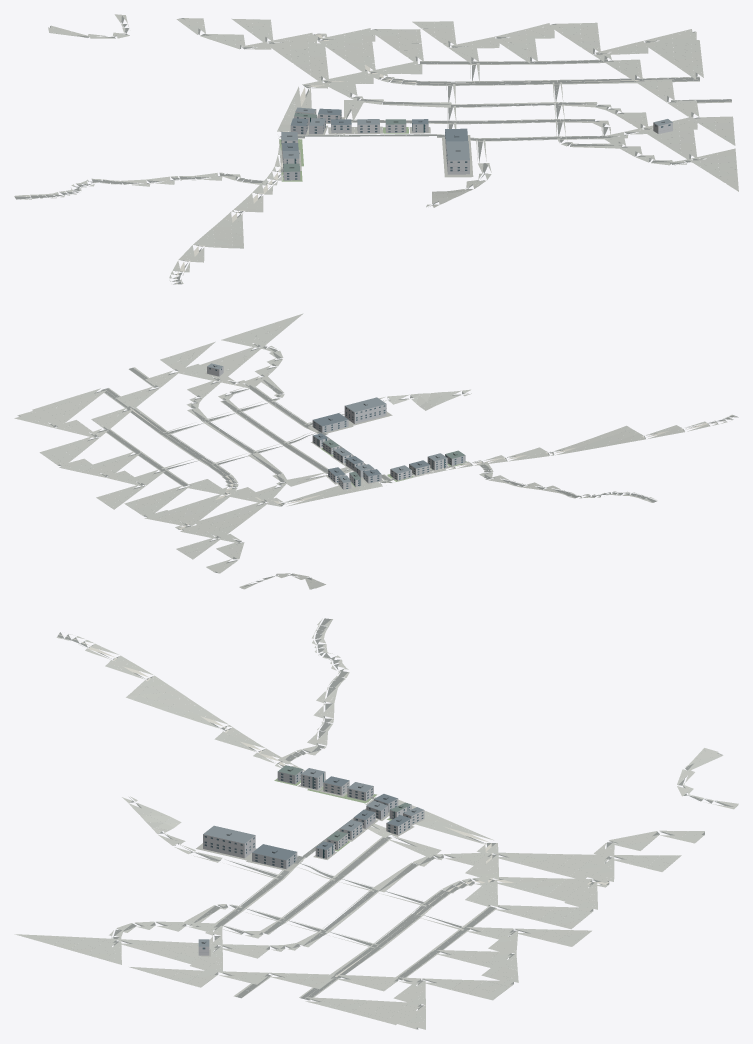
3 renders of one model, top to bottom at view 1: azimuth 30°, elevation 25°; view 2: azimuth 150°, elevation 25°; view 3: azimuth 270°, elevation 25°, orthographic. The views are drawn at different scales.
Visible parts, largest first — view 1: context-osm-sidewalks, context-osm-roads, context-osm-buildings, context-building-plinths, context-road-markings; view 2: context-osm-sidewalks, context-osm-roads, context-osm-buildings, context-road-markings, context-building-plinths; view 3: context-osm-sidewalks, context-osm-roads, context-osm-buildings, context-building-plinths, context-road-markings.
Part boxes in pixels (x1=…): context-osm-sidewalks: x1=14, y1=14, x2=738, y2=283; context-osm-roads: x1=15, y1=16, x2=735, y2=284; context-osm-buildings: x1=281, y1=107, x2=672, y2=180; context-building-plinths: x1=279, y1=116, x2=673, y2=181; context-road-markings: x1=175, y1=34, x2=697, y2=284; context-osm-sidewalks: x1=14, y1=313, x2=733, y2=589; context-osm-roads: x1=17, y1=335, x2=738, y2=589; context-osm-buildings: x1=207, y1=363, x2=465, y2=489; context-road-markings: x1=105, y1=389, x2=735, y2=529; context-building-plinths: x1=205, y1=372, x2=466, y2=489; context-osm-sidewalks: x1=14, y1=618, x2=738, y2=1029; context-osm-roads: x1=57, y1=618, x2=737, y2=1029; context-osm-buildings: x1=198, y1=765, x2=424, y2=955; context-building-plinths: x1=196, y1=778, x2=424, y2=956; context-road-markings: x1=59, y1=634, x2=608, y2=998.
Bounding box in the file's own units: 826 × 49.39 × 687.
